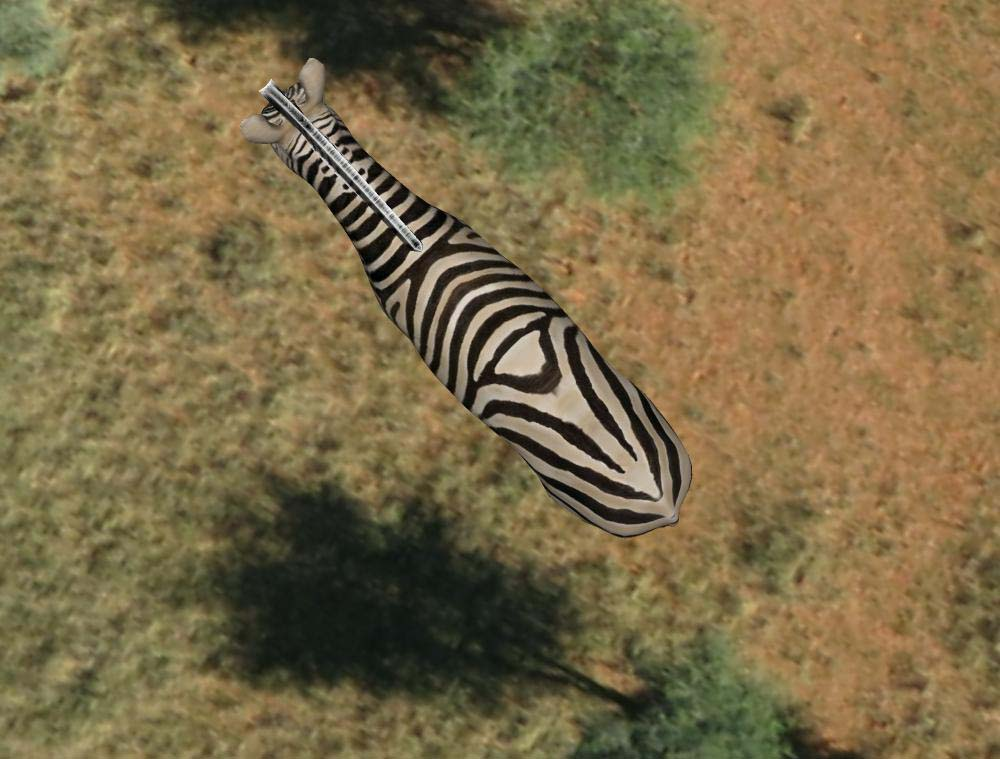zebra: (229, 50, 696, 551)
